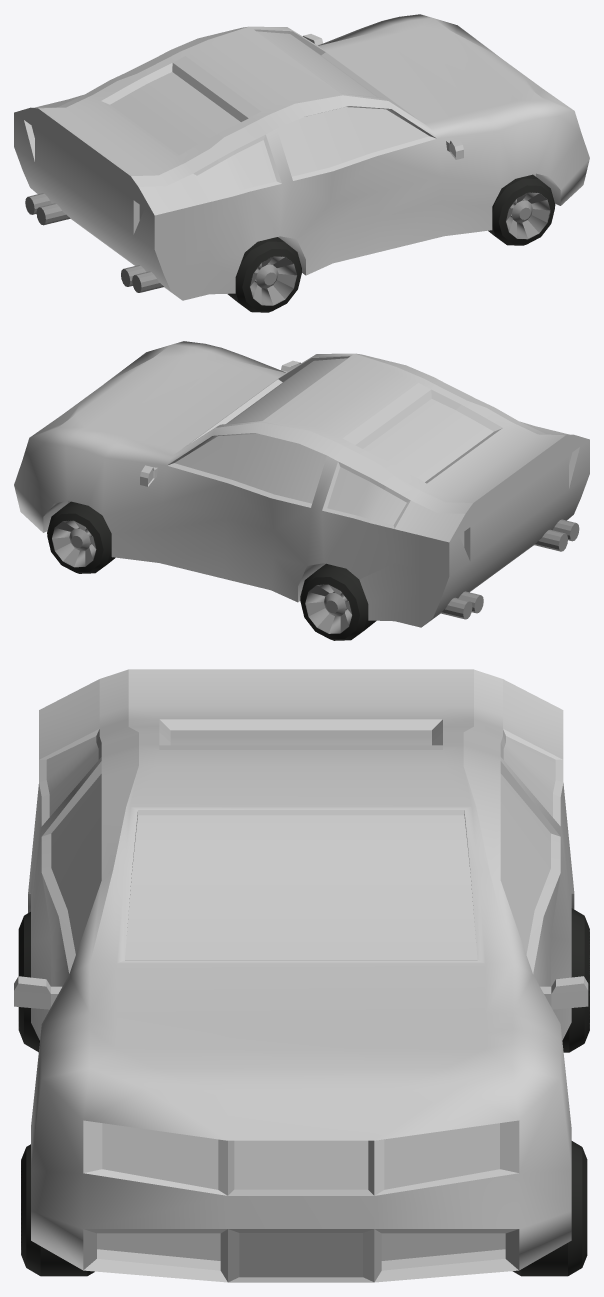
Rendered from auto5.fbx.
3 renders of one model, top to bottom at view 1: azimuth 30°, elevation 25°; view 2: azimuth 150°, elevation 25°; view 3: azimuth 270°, elevation 25°, orthographic. The views are drawn at different scales.
Parts seen in each view (by area): view 1: auto4, rechts_achter, rechts_voor, pijp; view 2: auto4, links_achter, links_voor, pijp; view 3: auto4, links_voor, rechts_voor, links_achter, rechts_achter.
Boxes of the visible parts, x1,y1,x2,y2 form: auto4: (14,14,589,300); rechts_achter: (227,237,301,312); rechts_voor: (488,174,555,245); pijp: (25,193,163,292); auto4: (14,341,589,627); links_achter: (300,563,376,640); links_voor: (47,501,115,573); pijp: (440,519,579,619); auto4: (14,669,588,1282); links_voor: (512,1141,587,1276); rechts_voor: (21,1144,94,1276); links_achter: (562,908,589,1052); rechts_achter: (18,912,39,1052).
Size of the model in its own units: 3.55 by 1.33 by 2.12.
